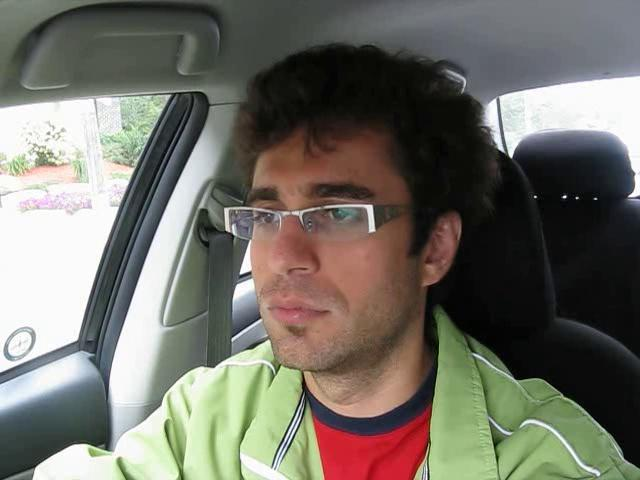no_yawn: (248, 289, 348, 338)
open_eyeL: (240, 199, 288, 237)
open_eyeR: (309, 195, 383, 243)
